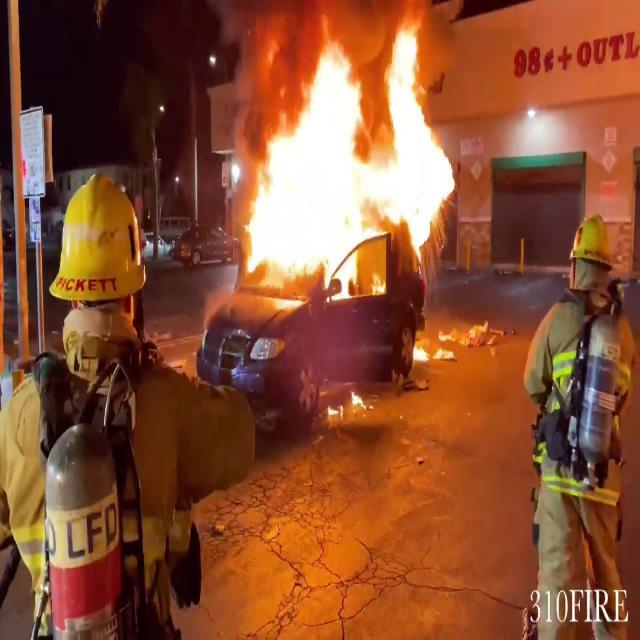Fire: (235, 7, 460, 284)
